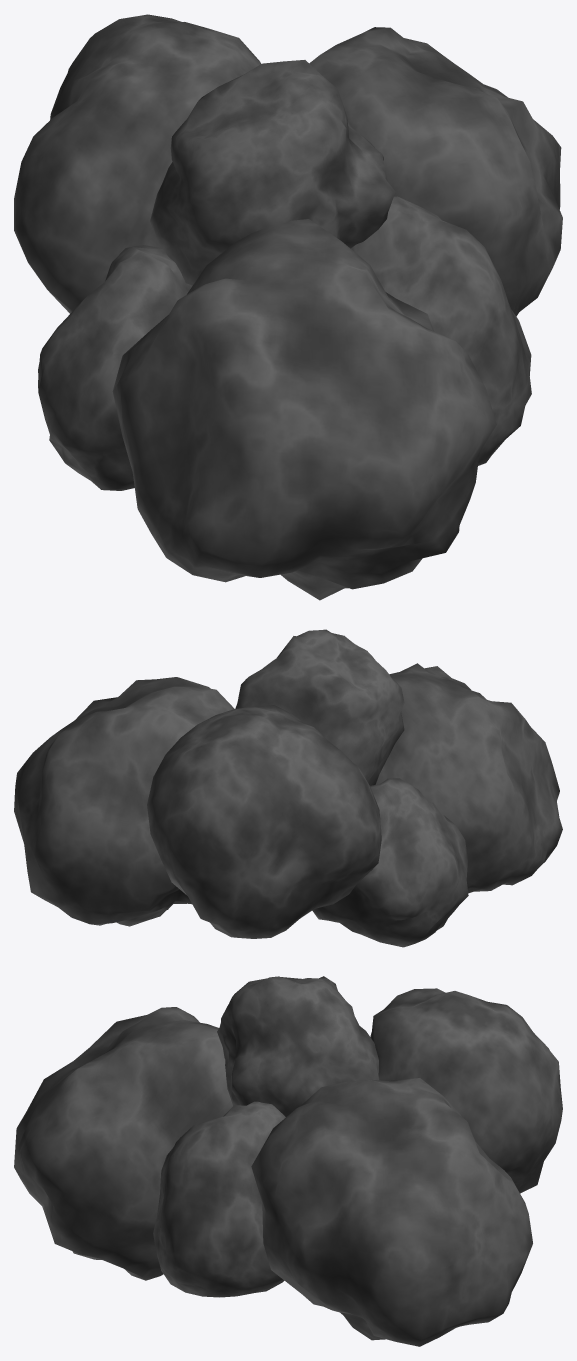
File: A_BoulderOutcropPlainMedium_10.glb
3 renders of one model, top to bottom at view 1: azimuth 30°, elevation 25°; view 2: azimuth 150°, elevation 25°; view 3: azimuth 270°, elevation 25°, orthographic. The views are drawn at different scales.
Visible parts, largest first — view 1: BoulderOutcropPlainMedium_10; view 2: BoulderOutcropPlainMedium_10; view 3: BoulderOutcropPlainMedium_10.
Part boxes in pixels (<box>): BoulderOutcropPlainMedium_10: <box>14,14,562,600</box>; BoulderOutcropPlainMedium_10: <box>14,629,562,947</box>; BoulderOutcropPlainMedium_10: <box>14,976,562,1346</box>.
Bounding box in the file's own units: 5.22 × 3.74 × 5.87.
Materials: 1 (1 with a texture image).
